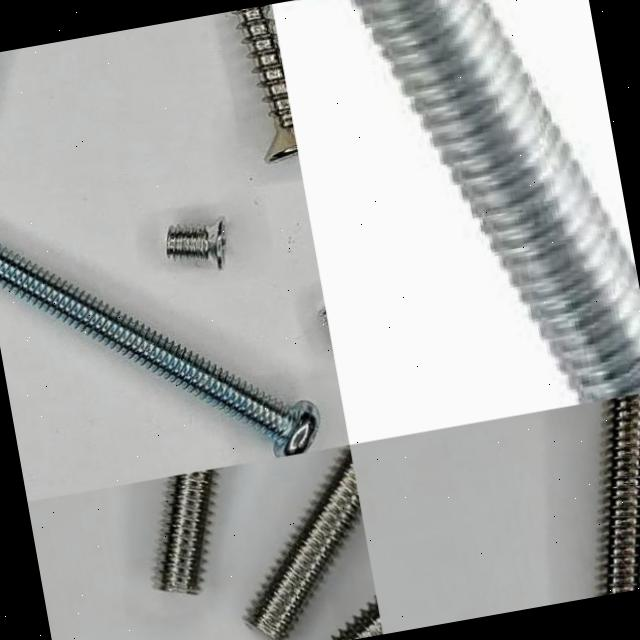Screw: (352, 0, 640, 405), (0, 245, 319, 457), (245, 444, 361, 640), (234, 4, 298, 161), (598, 393, 640, 596), (154, 467, 219, 593), (167, 217, 227, 268)
